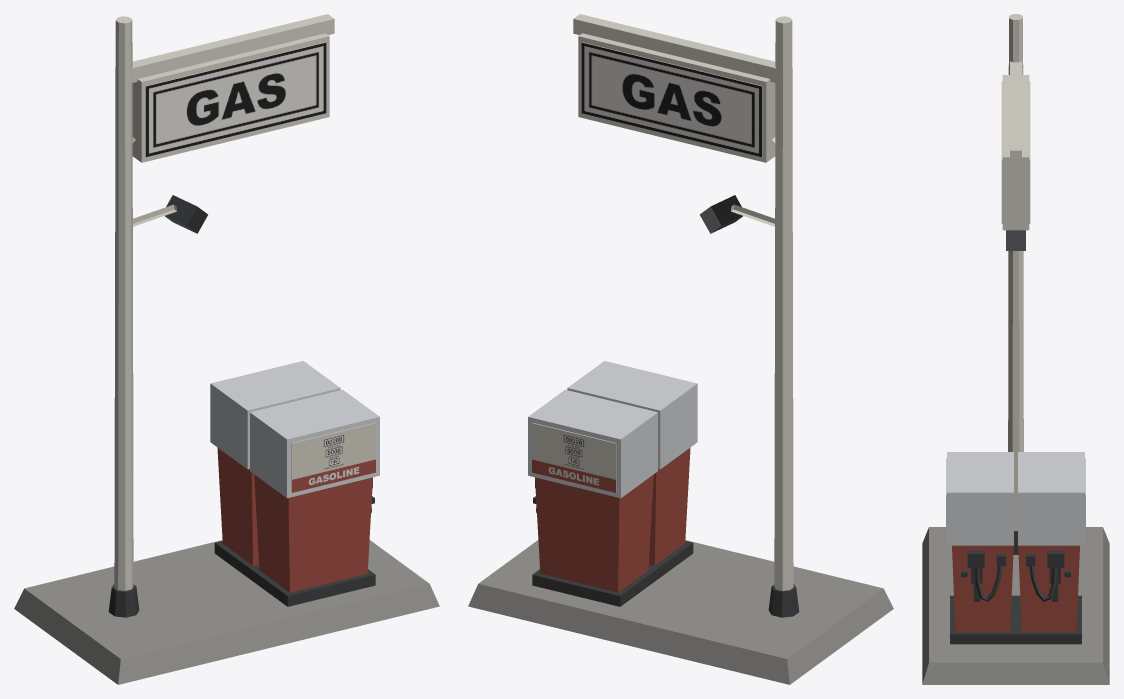
The model's file is gas-pump.glb.
The picture shows the model from 3 angles, left to right: view 1: azimuth 30°, elevation 25°; view 2: azimuth 150°, elevation 25°; view 3: azimuth 270°, elevation 25°; orthographic projection. The views are drawn at different scales.
Visible parts, largest first — view 1: GasPump; view 2: GasPump; view 3: GasPump.
Boxes of the visible parts, <box> form: GasPump: <box>14,14,439,684</box>; GasPump: <box>468,14,893,684</box>; GasPump: <box>922,14,1109,684</box>.
Bounding box in the file's own units: 2.5 × 4.55 × 1.4.
6 materials, 1 textured.
